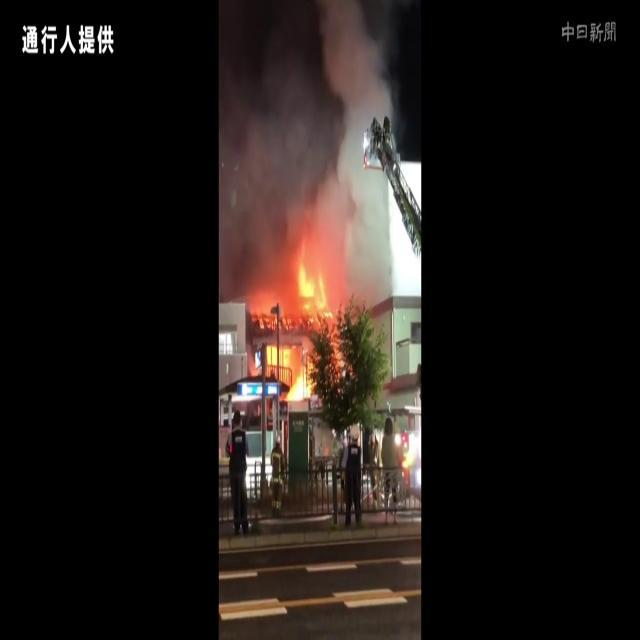Fire: (252, 247, 348, 403)
Smoke: (219, 0, 403, 270)
